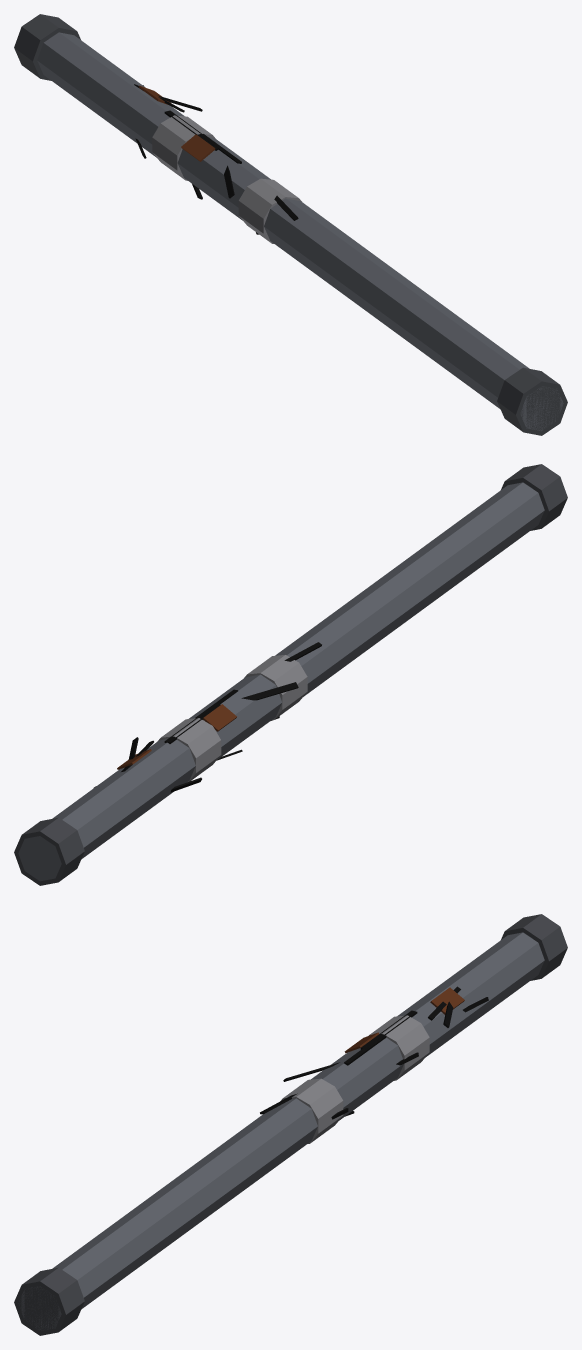
Rendered from pipe_w2.glb.
The picture shows the model from 3 angles, top to bottom: view 1: azimuth 30°, elevation 25°; view 2: azimuth 150°, elevation 25°; view 3: azimuth 330°, elevation 25°; orthographic projection.
Parts seen in each view (by area): view 1: pipe_w2; view 2: pipe_w2; view 3: pipe_w2.
Boxes of the visible parts, <box> form: pipe_w2: <box>14,14,567,435</box>; pipe_w2: <box>14,464,567,885</box>; pipe_w2: <box>14,914,567,1335</box>.
Size of the model in its own units: 0.0645 by 0.048 by 0.8.
